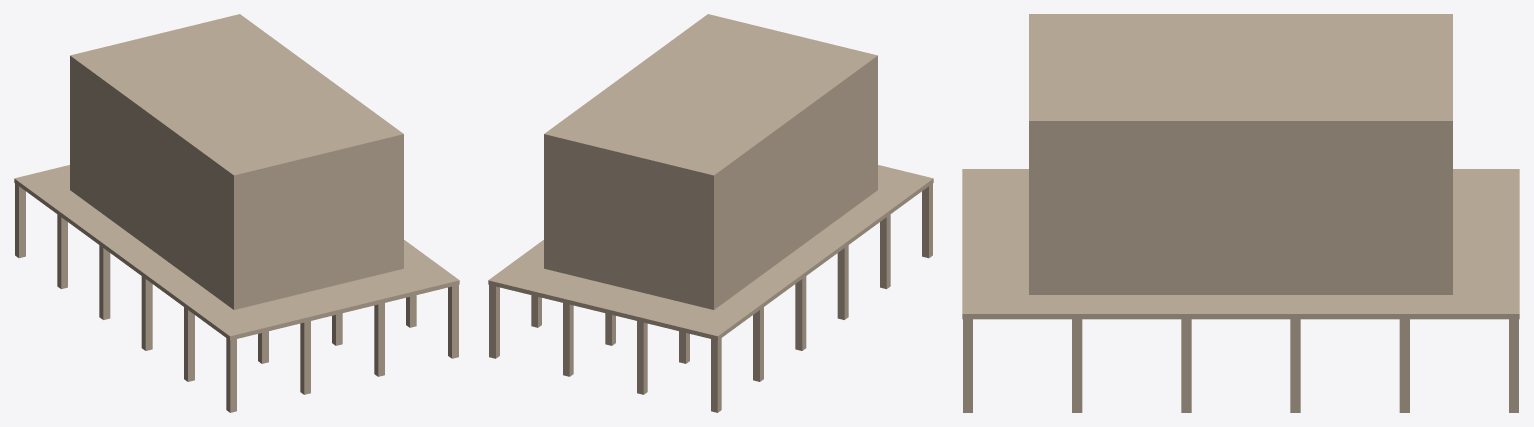
File: massing.glb
3 renders of one model, left to right at view 1: azimuth 30°, elevation 25°; view 2: azimuth 150°, elevation 25°; view 3: azimuth 270°, elevation 25°, orthographic. The views are drawn at different scales.
Visible parts, largest first — view 1: building/exterior; view 2: building/exterior; view 3: building/exterior.
Part boxes in pixels (left/top/right/bottom): building/exterior: left=14, top=14, right=459, bottom=412; building/exterior: left=488, top=14, right=933, bottom=412; building/exterior: left=962, top=14, right=1519, bottom=412.
Size of the model in its own units: 10 by 8.8 by 16.27.
